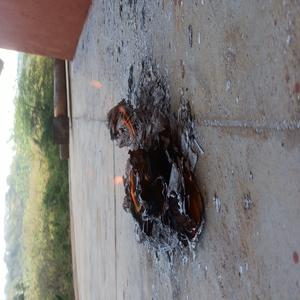fire: (83, 74, 114, 102), (107, 171, 125, 188)
